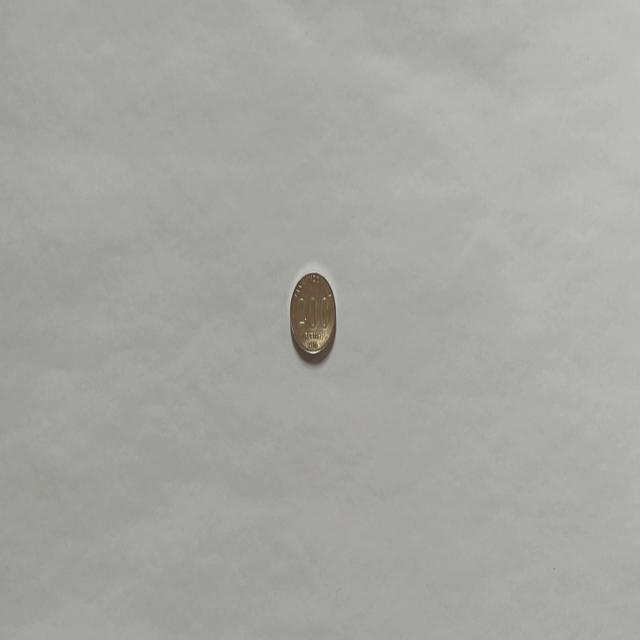dua ratus rupiah: (288, 269, 336, 360)
